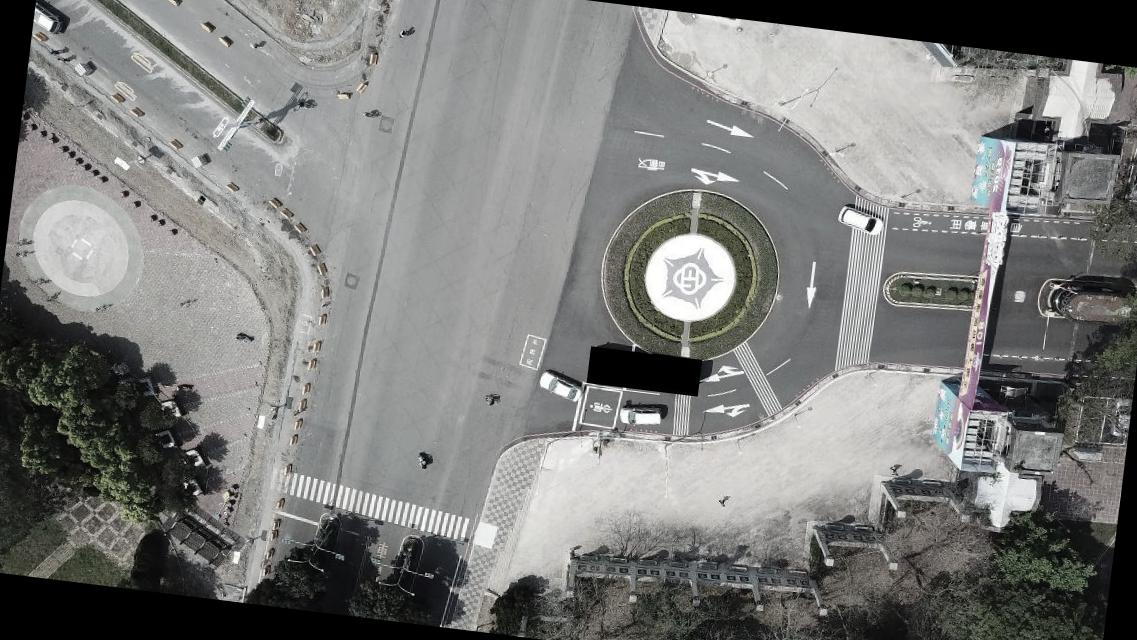vehicle: (835, 203, 884, 235), (538, 369, 584, 403), (32, 0, 68, 37), (618, 401, 662, 429), (1107, 392, 1131, 440), (1124, 149, 1136, 205)
